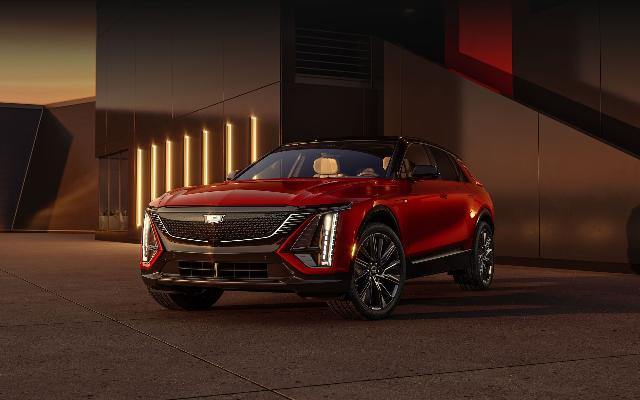cadillac: (138, 136, 496, 318)
